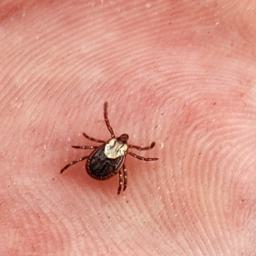Dermacentor variabilis: (107, 99, 185, 186)
